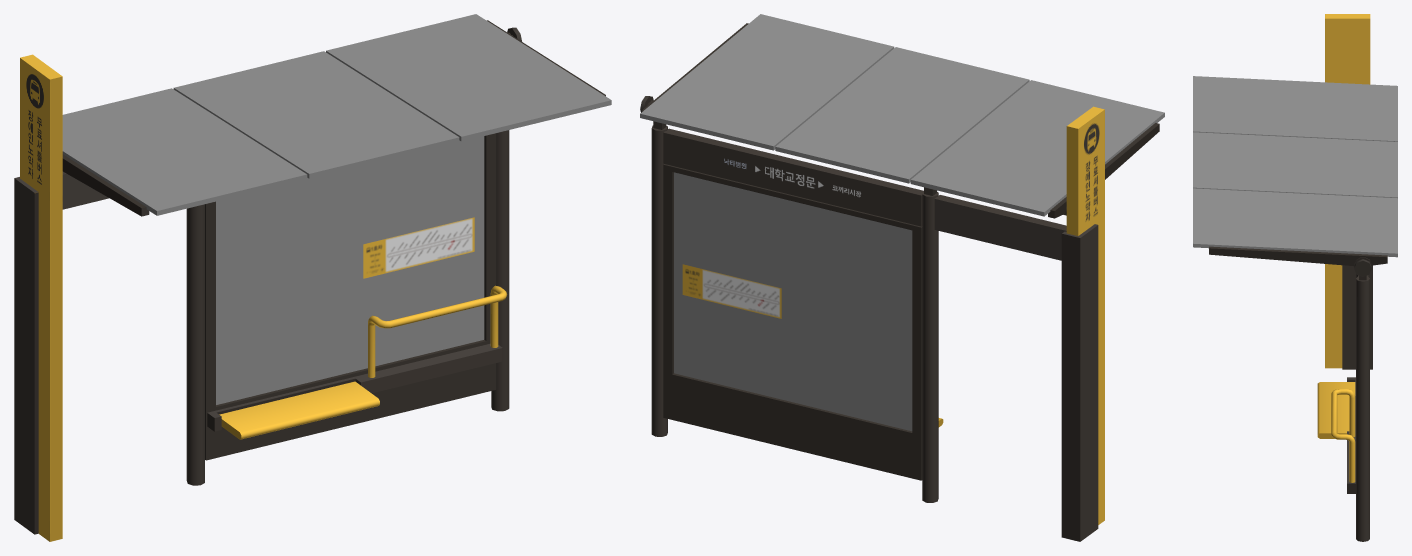
Rendered from Bus_Stop.FBX.
3 views of the same model, side by side, from view 1: azimuth 30°, elevation 25°; view 2: azimuth 150°, elevation 25°; view 3: azimuth 270°, elevation 25° (orthographic). The views are drawn at different scales.
Visible parts, largest first — view 1: Box008; view 2: Box008; view 3: Box008.
Boxes of the visible parts, <box> form: Box008: <box>14,14,611,541</box>; Box008: <box>640,14,1164,541</box>; Box008: <box>1193,14,1397,541</box>.
Bounding box in the file's own units: 430 × 383 × 204.
